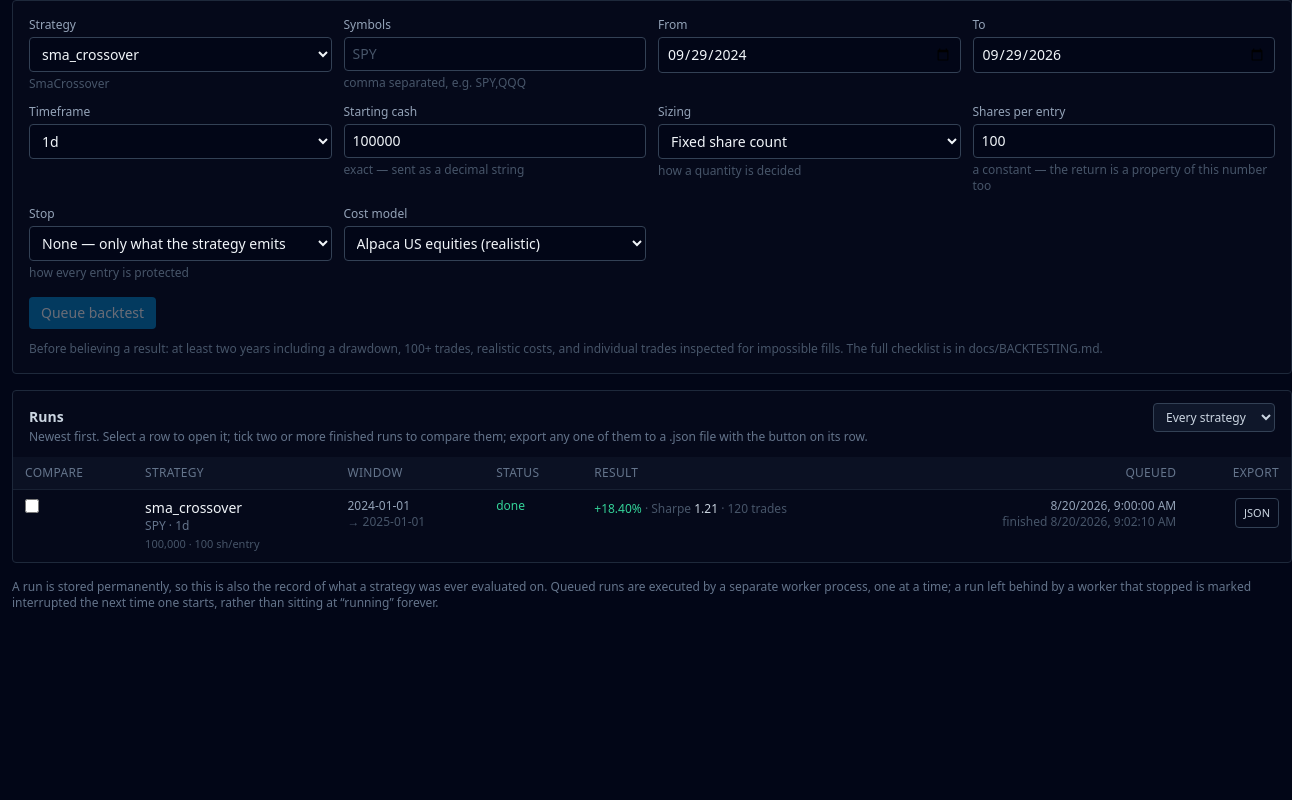
it: exporting a run › says so on the row when it could not export, and writes nothing
This screenshot has width=1292, height=800.
Click the button "JSON".
click(1257, 513)  # box top-left (1235, 498), bottom-right (1279, 528)
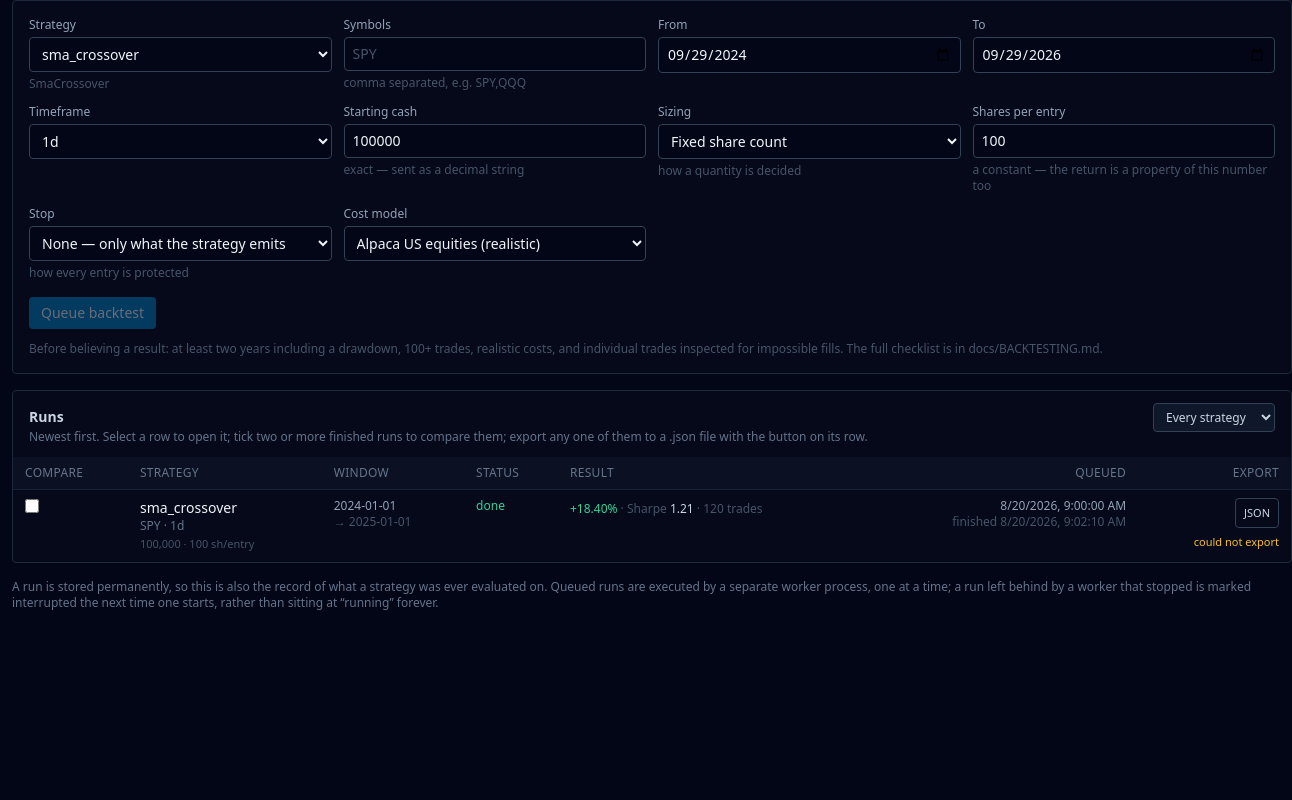
Now the text "could not export" is shown, box top-left (1194, 534), bottom-right (1279, 549)
